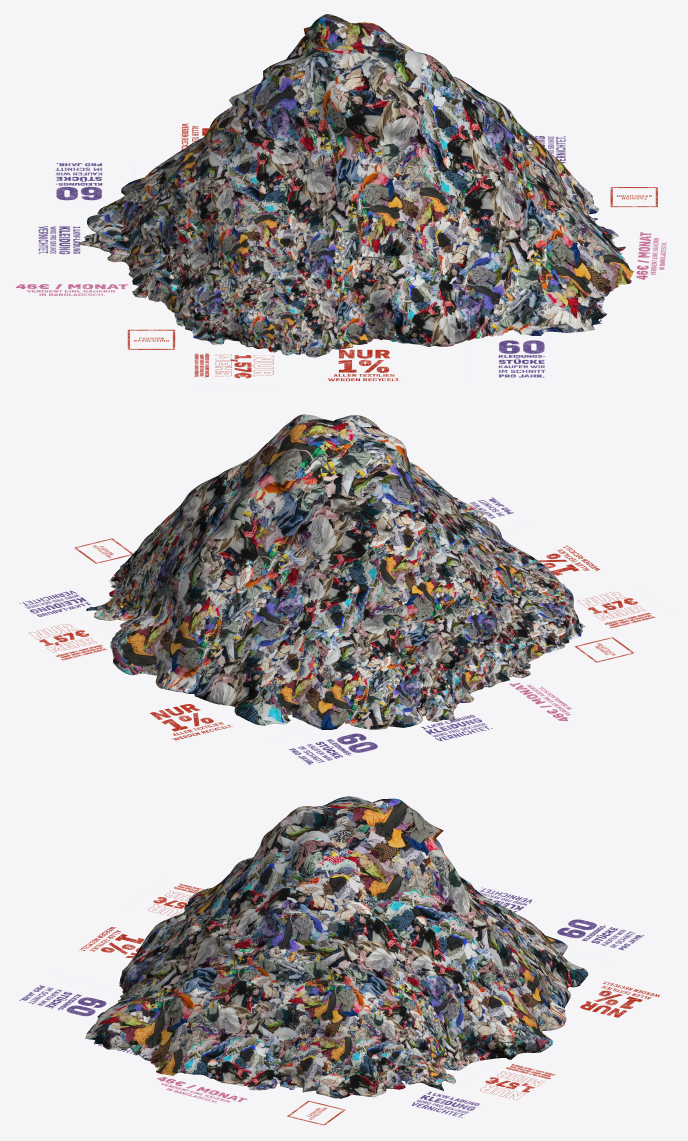
Rendered from kleiderberg-Berg.glb.
3 views of the same model, one above another, from view 1: azimuth 30°, elevation 25°; view 2: azimuth 150°, elevation 25°; view 3: azimuth 270°, elevation 25° (orthographic). The views are drawn at different scales.
Parts seen in each view (by area): view 1: Berg, Plane, Plane.6, Plane.9, Plane.3, Plane.5, Plane.2, Plane.4; view 2: Berg, Plane.6, Plane.12, Plane.7, Plane.3, Plane.8, Plane.5, Plane.4, Plane.9; view 3: Berg, Plane.6, Plane, Plane.12, Plane.7, Plane.8, Plane.9, Plane.2.
Boxes of the visible parts, x1=… form: Berg: x1=78, y1=14, x2=633, y2=357; Plane: x1=498, y1=340, x2=545, y2=377; Plane.6: x1=55, y1=163, x2=102, y2=200; Plane.9: x1=328, y1=349, x2=399, y2=380; Plane.3: x1=194, y1=353, x2=273, y2=378; Plane.5: x1=38, y1=226, x2=80, y2=254; Plane.2: x1=636, y1=232, x2=666, y2=279; Plane.4: x1=16, y1=284, x2=128, y2=295; Berg: x1=86, y1=414, x2=585, y2=729; Plane.6: x1=289, y1=733, x2=377, y2=764; Plane.12: x1=150, y1=704, x2=233, y2=740; Plane.7: x1=29, y1=624, x2=106, y2=660; Plane.3: x1=577, y1=592, x2=655, y2=628; Plane.8: x1=19, y1=590, x2=90, y2=616; Plane.5: x1=421, y1=715, x2=492, y2=741; Plane.4: x1=509, y1=683, x2=571, y2=720; Plane.9: x1=538, y1=545, x2=599, y2=575; Berg: x1=85, y1=796, x2=588, y2=1098; Plane.6: x1=557, y1=919, x2=643, y2=950; Plane: x1=19, y1=985, x2=106, y2=1016; Plane.12: x1=580, y1=981, x2=659, y2=1017; Plane.7: x1=480, y1=1064, x2=554, y2=1099; Plane.8: x1=412, y1=1091, x2=479, y2=1117; Plane.9: x1=79, y1=927, x2=144, y2=957; Plane.2: x1=157, y1=1077, x2=247, y2=1102.
Size of the model in its own units: 179 by 61.5 by 187.
2 materials, 2 textured.
